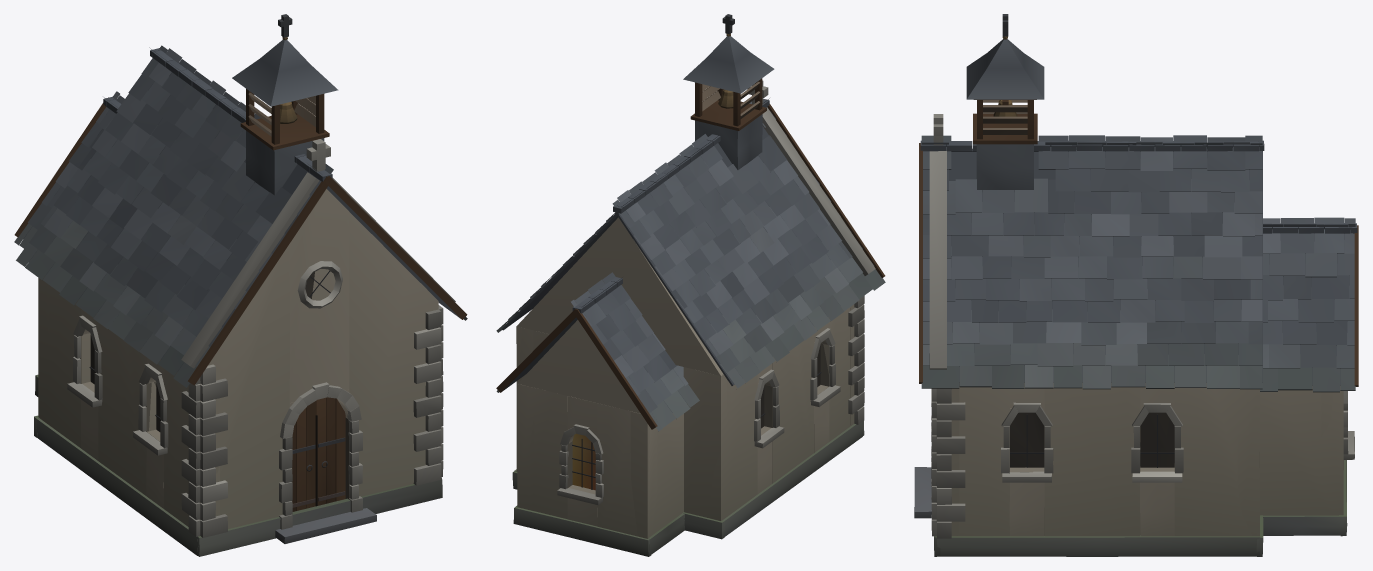
The model's file is ph_bld_chapel_l3.glb.
3 renders of one model, left to right at view 1: azimuth 30°, elevation 25°; view 2: azimuth 150°, elevation 25°; view 3: azimuth 270°, elevation 25°, orthographic. The views are drawn at different scales.
Visible parts, largest first — view 1: ph_bld_chapel_l3; view 2: ph_bld_chapel_l3; view 3: ph_bld_chapel_l3.
Part boxes in pixels (x1,y1,x2,y2): ph_bld_chapel_l3: [14, 14, 467, 556]; ph_bld_chapel_l3: [496, 14, 885, 556]; ph_bld_chapel_l3: [914, 14, 1358, 556].
Size of the model in its own units: 5.22 by 8.59 by 7.16.
